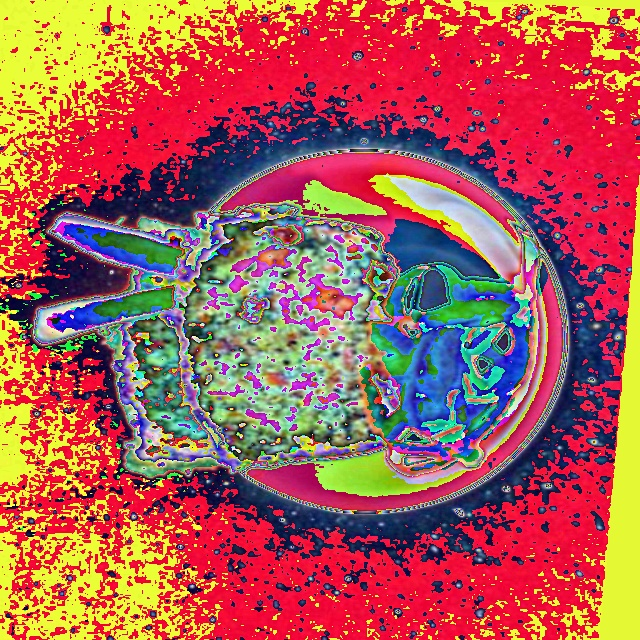background: (32, 204, 539, 478)
